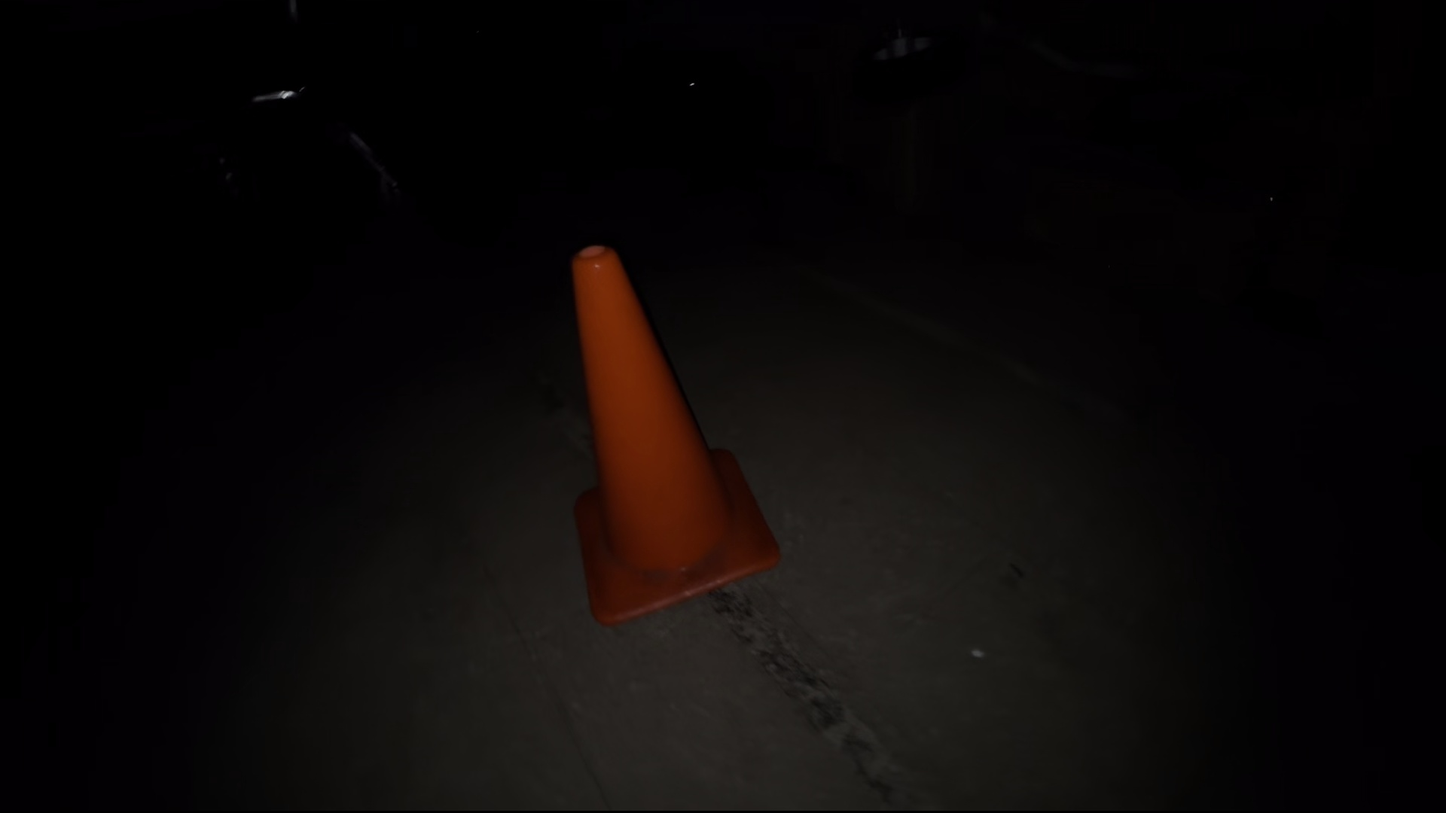traffic_cone: (568, 243, 781, 626)
